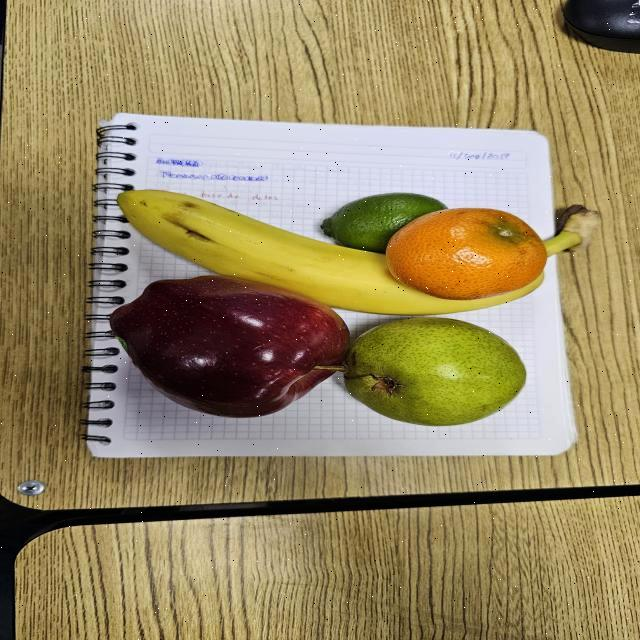Apel Merah: (96, 269, 358, 426)
Jeruk Mandarin: (375, 204, 560, 305)
Lemon: (313, 191, 463, 258)
Pir: (336, 315, 538, 435)
Pisang: (118, 185, 628, 318)
